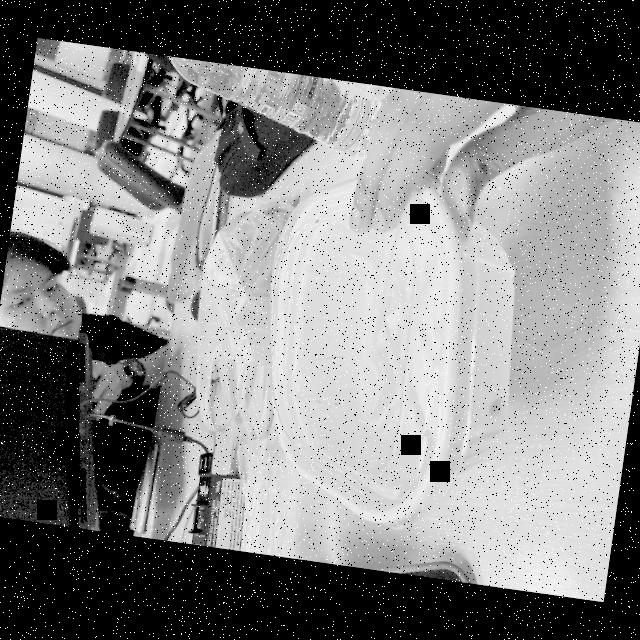plastic_box: (235, 158, 553, 552)
